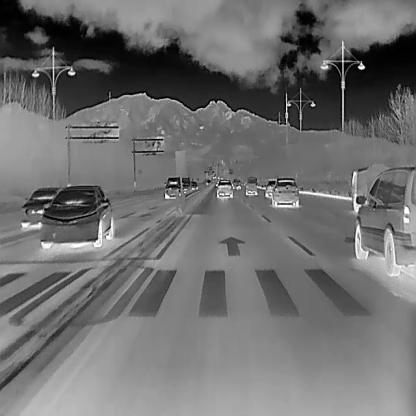car: (354, 166, 416, 275), (39, 184, 113, 248), (20, 186, 58, 229), (271, 176, 299, 206), (164, 175, 181, 198), (214, 178, 233, 197), (244, 175, 258, 195), (263, 178, 278, 196), (179, 176, 190, 193), (231, 178, 241, 188), (189, 179, 198, 190), (206, 178, 212, 184)
truck: (350, 162, 396, 210)
